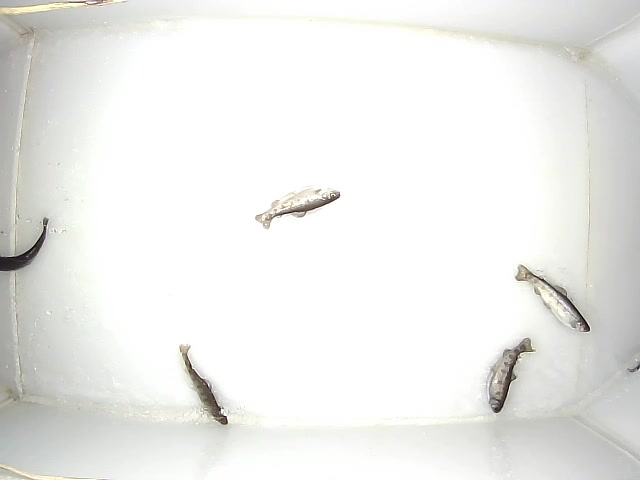fish: (515, 264, 590, 333), (179, 343, 228, 425), (488, 337, 536, 414), (255, 188, 340, 230), (1, 216, 50, 271)
